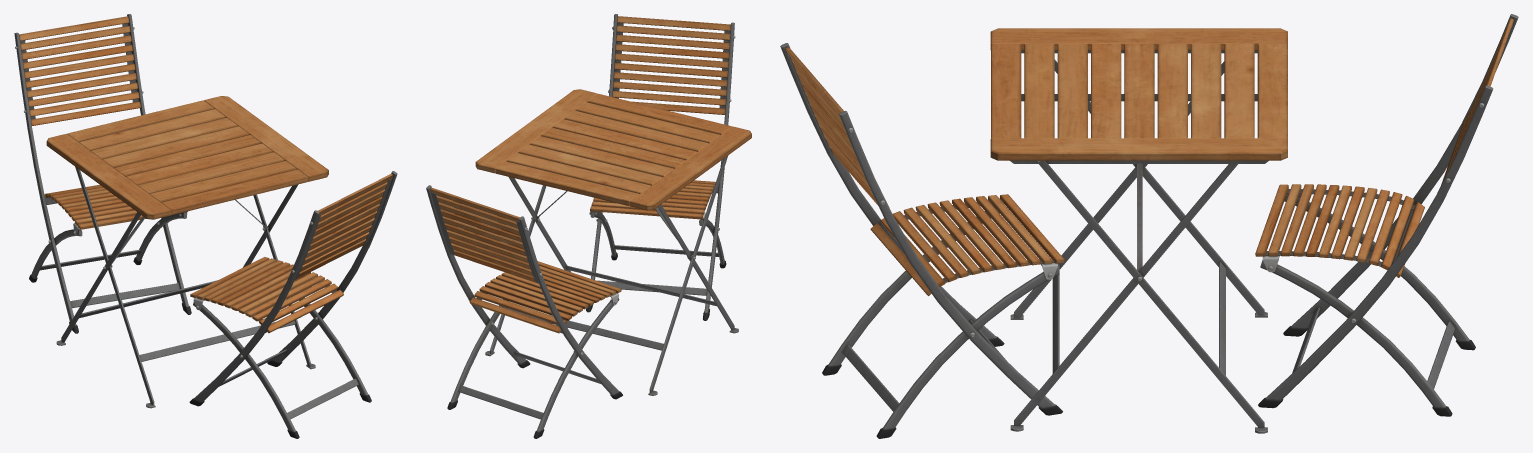
Rendered from outdoor_table_chair_set_01.glb.
3 views of the same model, side by side, from view 1: azimuth 30°, elevation 25°; view 2: azimuth 150°, elevation 25°; view 3: azimuth 270°, elevation 25° (orthographic). The views are drawn at different scales.
Parts seen in each view (by area): view 1: outdoor_table_chair_set_01_chair_01, outdoor_table_chair_set_01_table; view 2: outdoor_table_chair_set_01_chair_01, outdoor_table_chair_set_01_table; view 3: outdoor_table_chair_set_01_table, outdoor_table_chair_set_01_chair_01.
Boxes of the visible parts, x1,y1,x2,y2 form: outdoor_table_chair_set_01_chair_01: (14,14,397,438); outdoor_table_chair_set_01_table: (46,96,328,408); outdoor_table_chair_set_01_chair_01: (426,14,735,438); outdoor_table_chair_set_01_table: (475,89,751,395); outdoor_table_chair_set_01_table: (990,28,1287,433); outdoor_table_chair_set_01_chair_01: (780,14,1518,438).
Size of the model in its own units: 0.7417 by 0.8587 by 1.72.
Materials: 2 (2 with a texture image).
